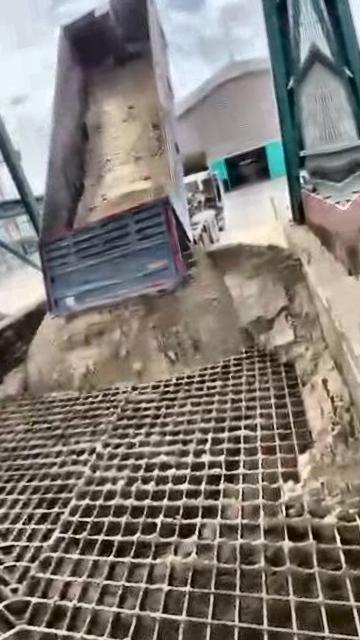sand: (0, 244, 360, 499), (77, 72, 165, 220), (0, 296, 1, 341)
